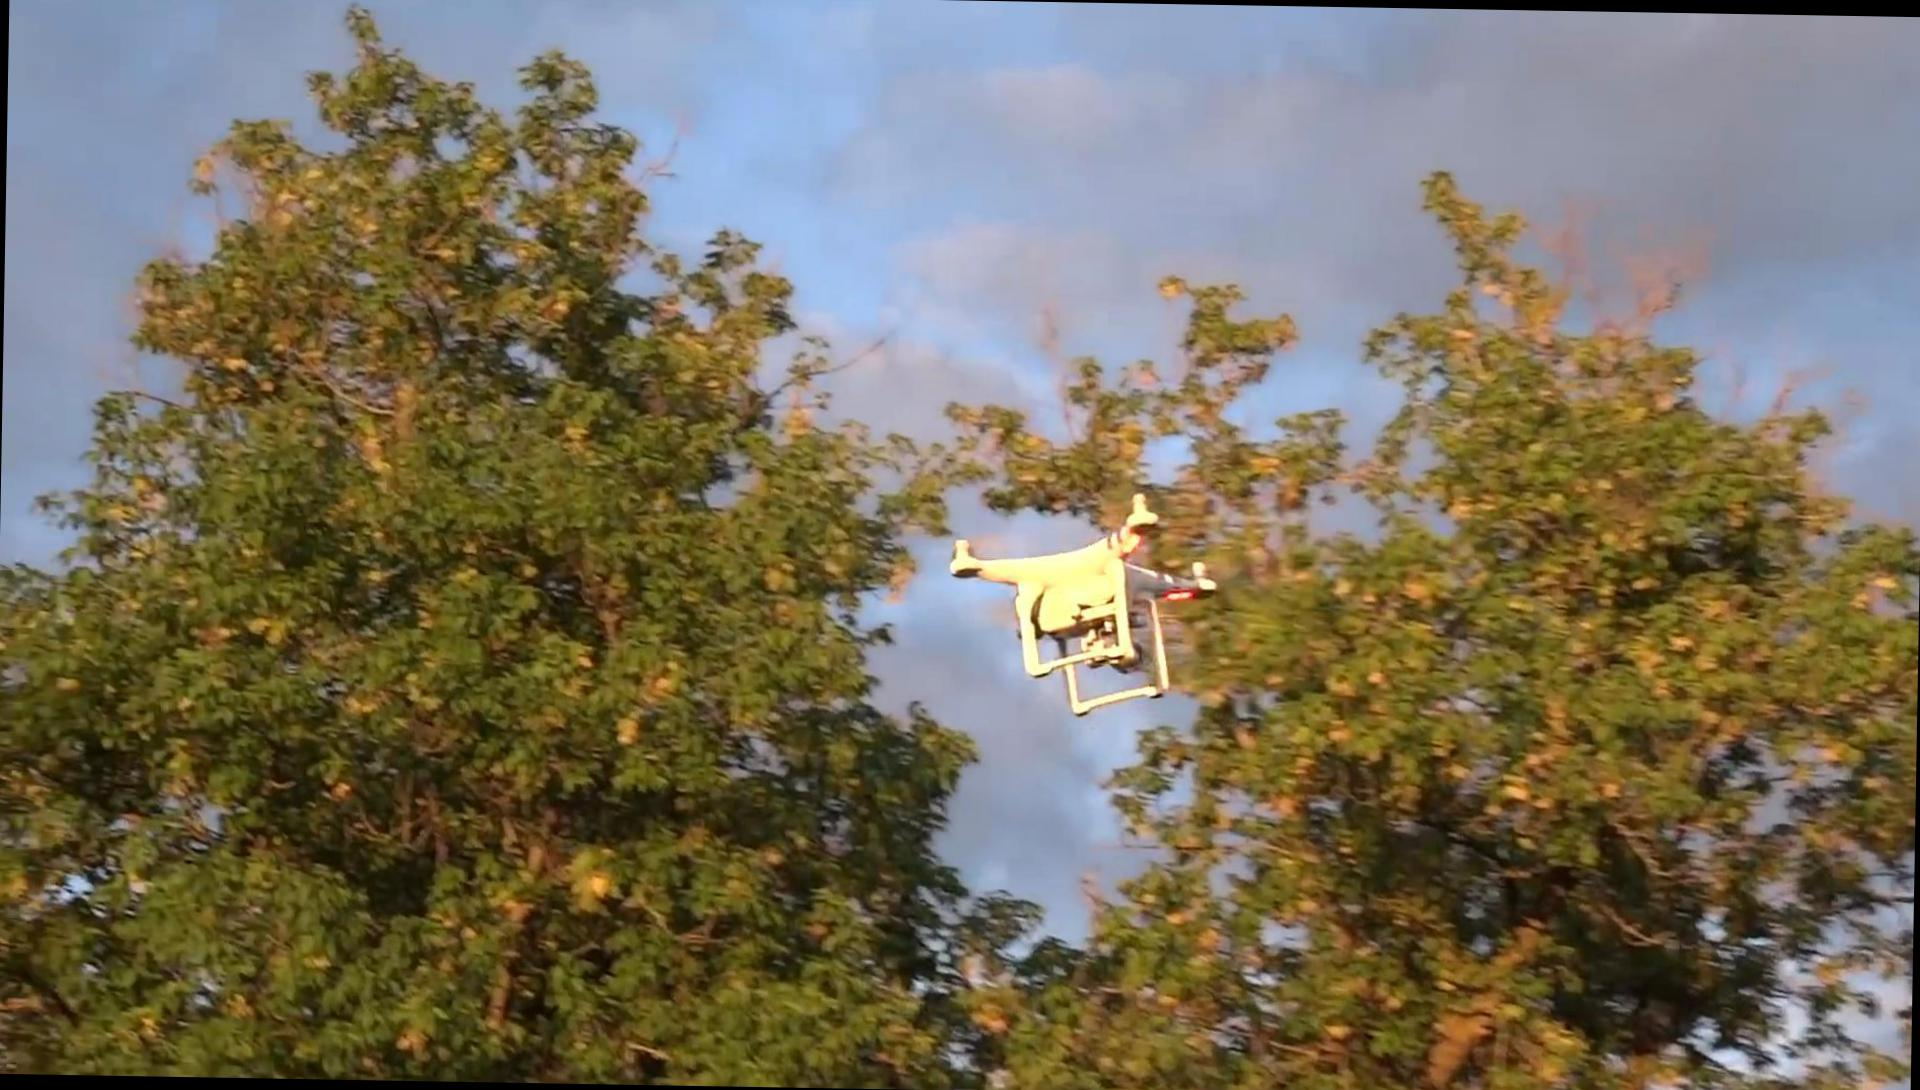drone: (936, 485, 1222, 718)
